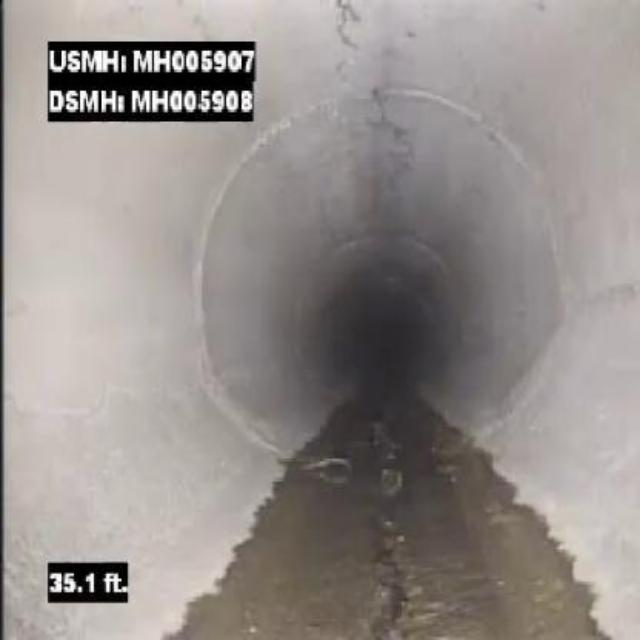Crack: (362, 494, 417, 638), (328, 3, 365, 91)
